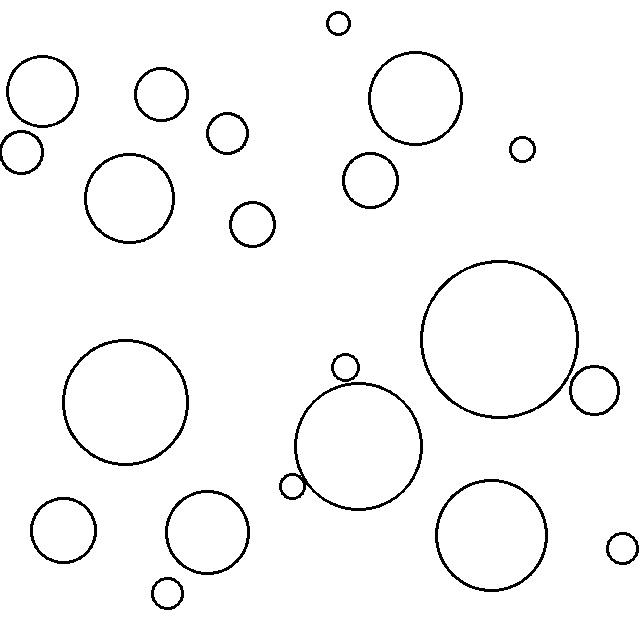circle: (421, 255, 581, 422), (293, 379, 426, 514), (59, 335, 192, 469), (431, 477, 550, 595), (367, 48, 466, 150), (81, 149, 178, 248), (162, 485, 253, 578), (4, 51, 82, 131), (27, 492, 102, 565), (340, 151, 403, 212), (130, 65, 192, 125), (566, 362, 623, 420), (225, 198, 278, 252), (205, 108, 252, 158), (0, 130, 46, 177), (603, 527, 639, 569), (149, 575, 187, 613), (330, 348, 363, 383), (507, 130, 539, 166), (277, 470, 308, 503), (325, 7, 352, 39)
